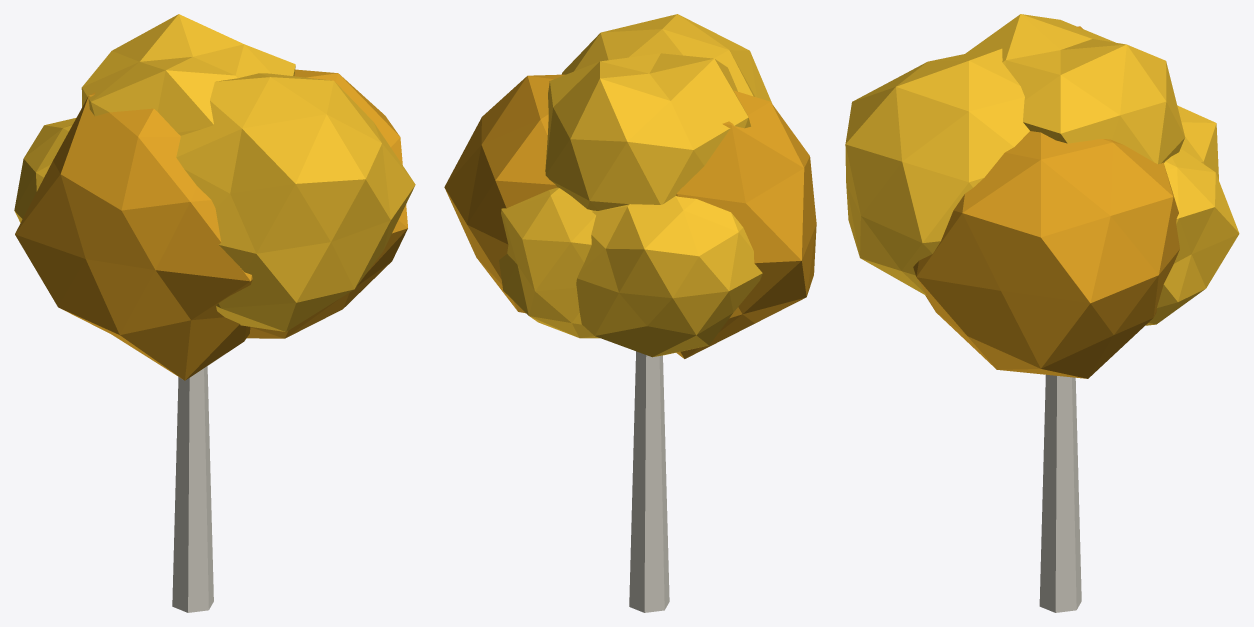
File: tree_autumn_yellow.glb
3 views of the same model, side by side, from view 1: azimuth 30°, elevation 25°; view 2: azimuth 150°, elevation 25°; view 3: azimuth 270°, elevation 25° (orthographic). The views are drawn at different scales.
Parts seen in each view (by area): view 1: tree_autumn_yellow; view 2: tree_autumn_yellow; view 3: tree_autumn_yellow.
Boxes of the visible parts, <box> form: tree_autumn_yellow: <box>14,14,415,612</box>; tree_autumn_yellow: <box>444,14,816,612</box>; tree_autumn_yellow: <box>845,14,1239,612</box>.
Size of the model in its own units: 6.79 by 9.99 by 6.28.
